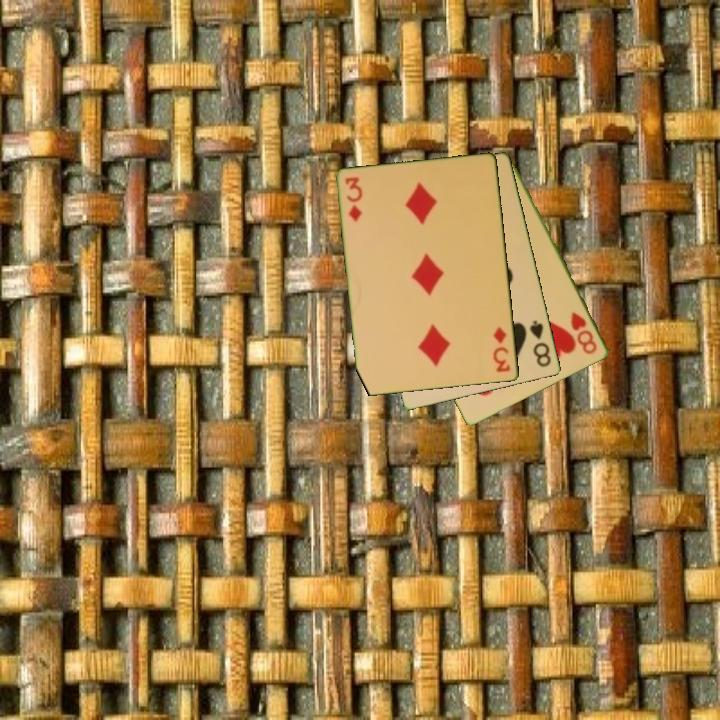3d: (490, 323, 513, 375), (342, 174, 365, 225)
8h: (567, 309, 600, 357)
8s: (526, 317, 554, 370)
